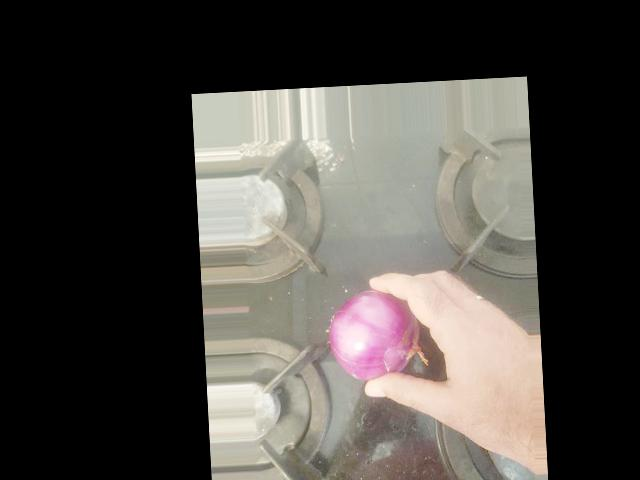onion: (277, 219, 370, 305)
